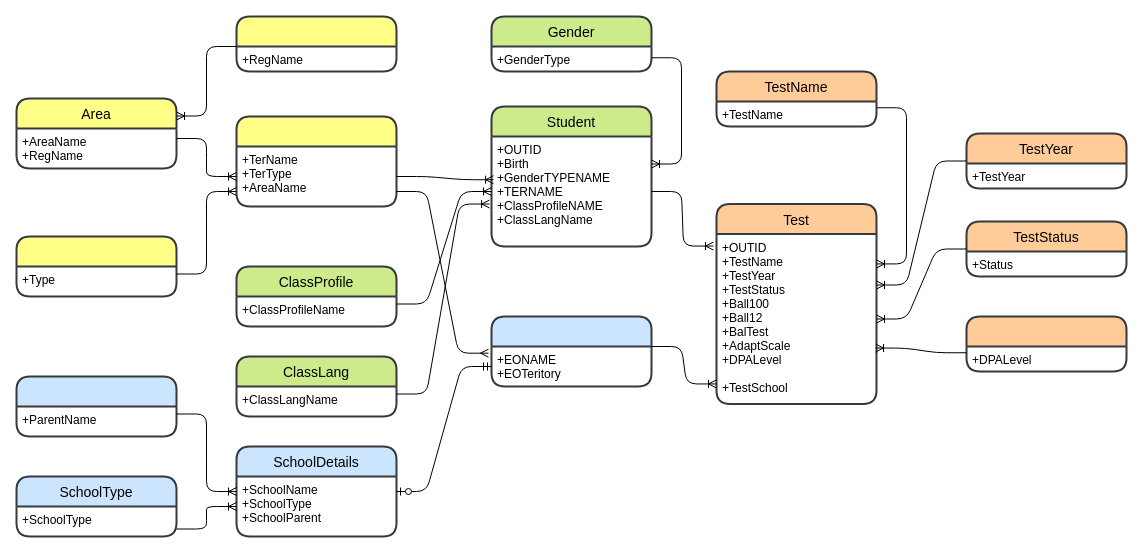
This 1143x553 diagram has some shape labels left out. The box of each missing label's shape, as (x1, y1, x2, y2) in pixels:
ParentSchool: (15, 375, 177, 437)
Region: (235, 15, 397, 72)
School: (490, 315, 652, 387)
Teritory: (235, 115, 397, 207)
TeritoryType: (15, 235, 177, 297)
TestDPALevel: (965, 315, 1127, 372)
